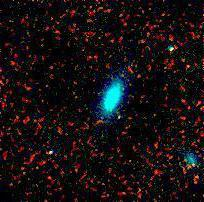star: (104, 100, 134, 130)
